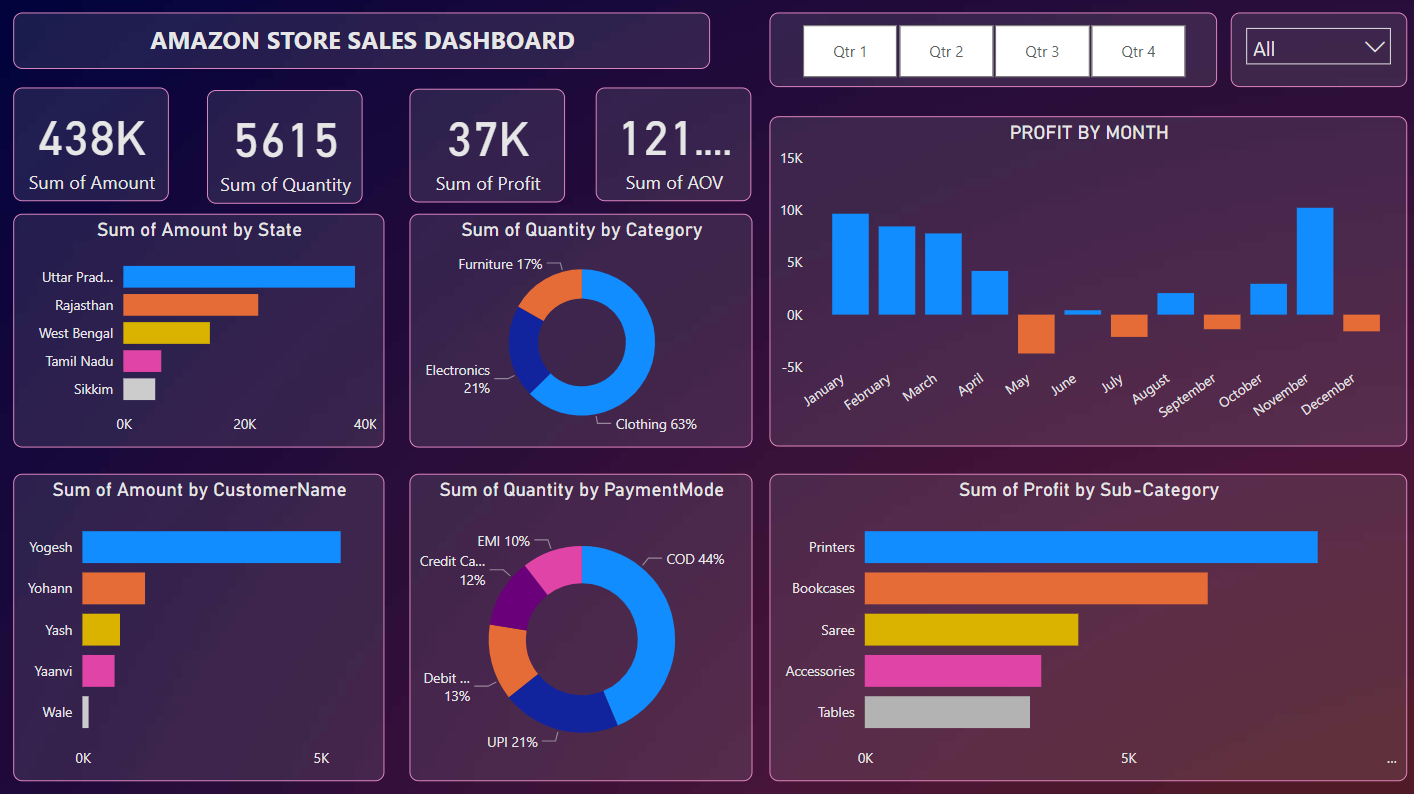

Layout of this report page (visuals, bound fields, positions):
{"tool":"powerbi","page":{"name":"Page 1","canvas":[1280,720],"ordinal":0},"visuals":[{"type":"textbox","box":[27.4,15.1,612.9,49.4],"z":0},{"type":"columnChart","title":"PROFIT BY MONTH","fields":{"Category":["Orders.Order Date.Variation.Date Hierarchy.Month"],"Y":["Details.Profit"]},"box":[692.4,106.9,560.8,290.7],"z":1000},{"type":"barChart","fields":{"Category":["Details.Sub-Category"],"Y":["Details.Profit"]},"box":[692.4,420.9,560.8,270.1],"z":2000},{"type":"donutChart","fields":{"Category":["Details.Category"],"Y":["Details.Quantity"]},"box":[375.7,191.9,301.6,205.7],"z":3000},{"type":"donutChart","fields":{"Category":["Details.PaymentMode"],"Y":["Details.Quantity"]},"box":[375.7,420.9,301.6,270.1],"z":4000},{"type":"card","fields":{"Values":["Details.Amount"]},"box":[27.4,80.9,137.1,100.1],"z":5000},{"type":"card","fields":{"Values":["Details.Quantity"]},"box":[197.4,83.6,137.1,100.1],"z":6000},{"type":"card","fields":{"Values":["Details.Profit"]},"box":[375.7,82.3,137.1,100.1],"z":7000},{"type":"card","fields":{"Values":["Details.AOV"]},"box":[540.2,80.9,137.1,100.1],"z":8000},{"type":"barChart","fields":{"Category":["Orders.State"],"Y":["Details.Amount"]},"box":[27.4,191.9,326.3,205.7],"z":9000},{"type":"barChart","fields":{"Category":["Orders.CustomerName"],"Y":["Details.Amount"]},"box":[27.4,420.9,326.3,270.1],"z":10000},{"type":"slicer","fields":{"Values":["Orders.Order Date.Variation.Date Hierarchy.Quarter"]},"box":[692.4,15.1,393.5,65.8],"z":11000},{"type":"slicer","fields":{"Values":["Orders.State"]},"box":[1098.2,15.1,154.9,65.8],"z":12000}]}

Visuals, with their boxes in screenshot pixels (x1, y1, x2, y2), scaled from the page's 1280x720 canvas onto the 1414x794 screenshot:
textbox: (30, 17, 707, 71)
"PROFIT BY MONTH" columnChart: (765, 118, 1384, 438)
barChart - Details.Sub-Category x Details.Profit: (765, 464, 1384, 762)
donutChart - Details.Category x Details.Quantity: (415, 212, 748, 438)
donutChart - Details.PaymentMode x Details.Quantity: (415, 464, 748, 762)
card - Details.Amount: (30, 89, 182, 200)
card - Details.Quantity: (218, 92, 370, 203)
card - Details.Profit: (415, 91, 566, 201)
card - Details.AOV: (597, 89, 748, 200)
barChart - Orders.State x Details.Amount: (30, 212, 391, 438)
barChart - Orders.CustomerName x Details.Amount: (30, 464, 391, 762)
slicer - Orders.Order Date.Variation.Date Hierarchy.Quarter: (765, 17, 1200, 89)
slicer - Orders.State: (1213, 17, 1384, 89)
